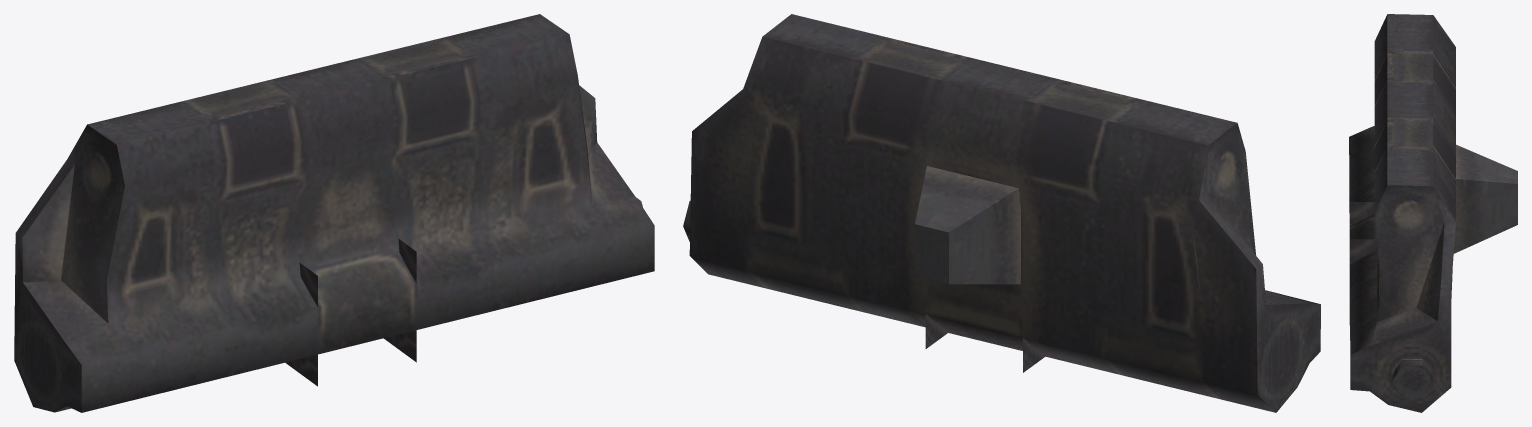
3 views of the same model, side by side, from view 1: azimuth 30°, elevation 25°; view 2: azimuth 150°, elevation 25°; view 3: azimuth 270°, elevation 25° (orthographic). The views are drawn at different scales.
Parts seen in each view (by area): view 1: set_0_group_0; view 2: set_0_group_0; view 3: set_0_group_0.
Part boxes in pixels (x1,y1,x2,y2): set_0_group_0: (14, 14, 654, 412); set_0_group_0: (683, 14, 1320, 412); set_0_group_0: (1349, 14, 1517, 412).
Size of the model in its own units: 0.4 by 0.1715 by 0.1268.
1 material, 1 textured.
